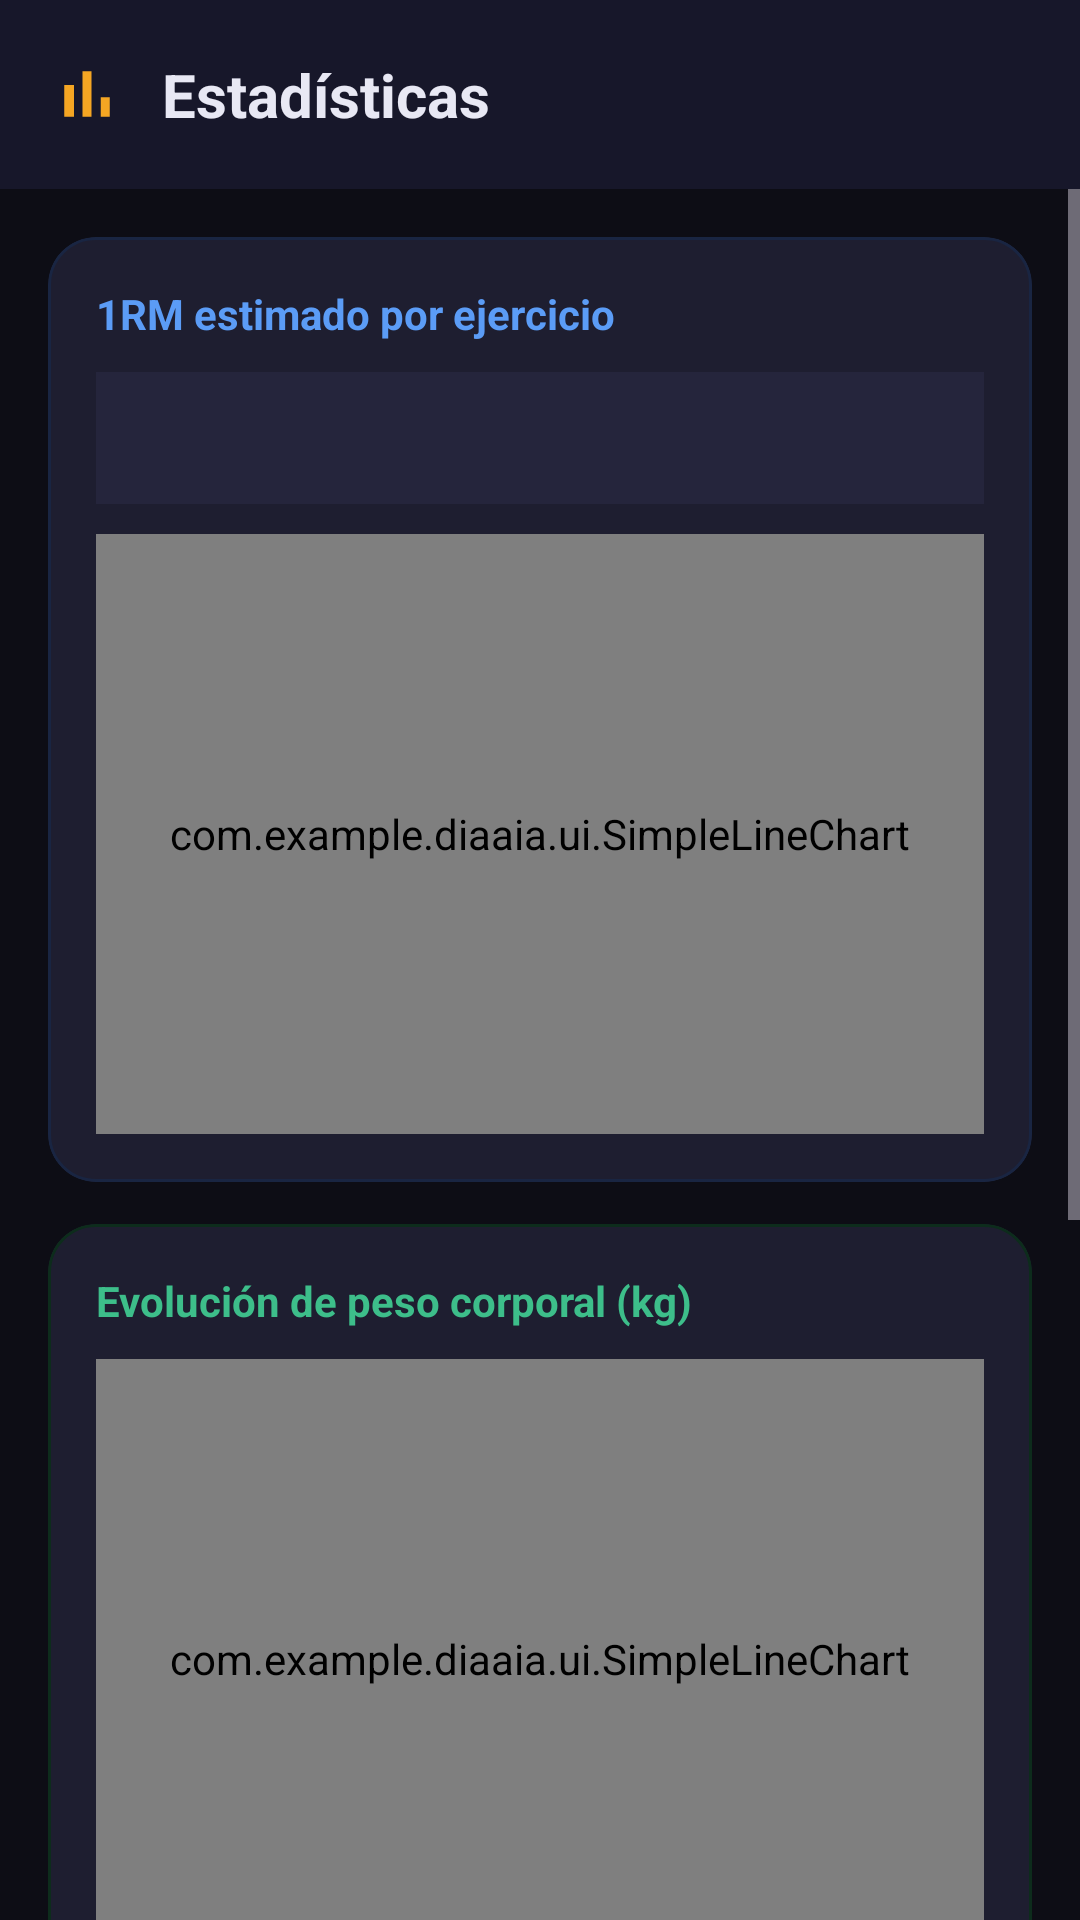

Where to tap for icons on this 1080x1920 app screen, as (x=x, y=y):
bar chart: (x=87, y=94)
